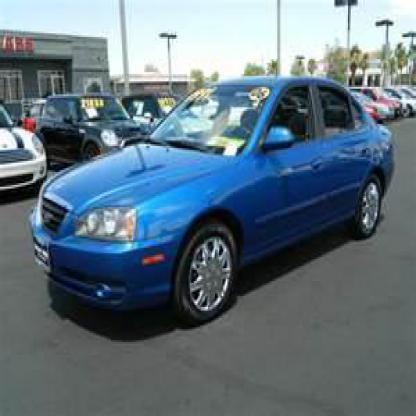Vehicle: (27, 74, 404, 336)
